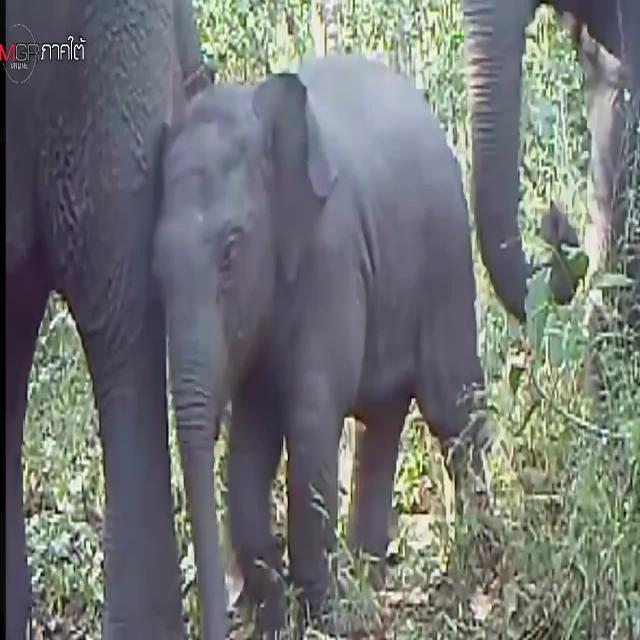Elephant: (156, 44, 464, 472), (4, 0, 186, 521), (461, 0, 640, 269)
